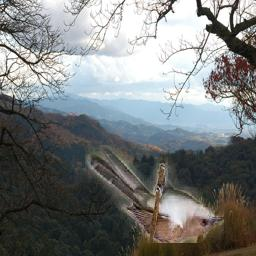Cuckoo: (86, 145, 225, 243)
